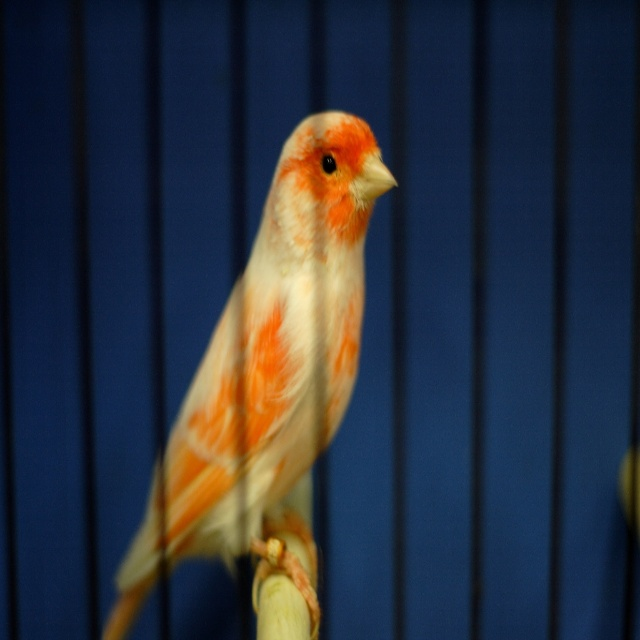Canary: (106, 108, 397, 639)
